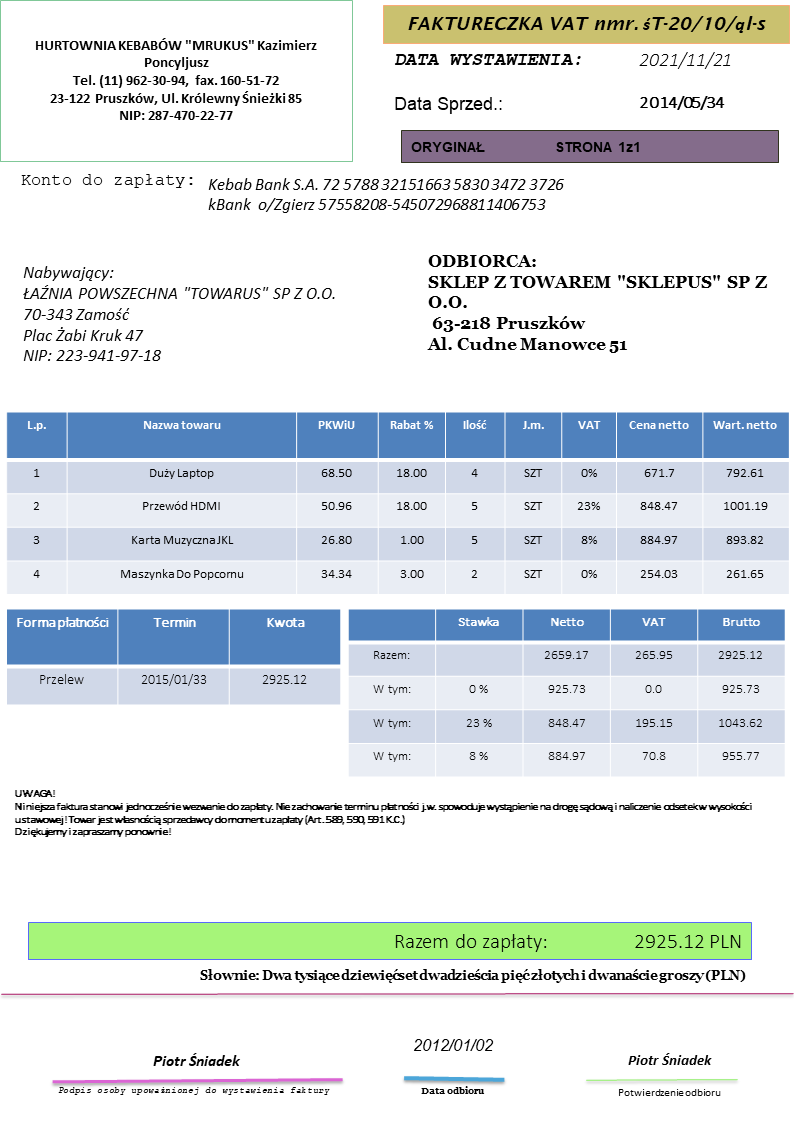Table: (5, 411, 788, 594), (346, 606, 786, 780), (6, 609, 340, 705)
TextBox: (12, 785, 756, 840), (426, 250, 772, 356), (19, 261, 338, 365), (30, 33, 321, 125), (206, 174, 565, 214), (197, 962, 748, 988), (404, 11, 768, 37), (390, 929, 745, 954), (407, 135, 645, 157), (54, 1083, 330, 1100), (392, 49, 582, 71), (17, 170, 200, 190), (391, 92, 505, 115), (635, 49, 732, 71), (411, 1034, 496, 1057), (149, 1050, 241, 1071), (634, 93, 726, 113), (614, 1085, 722, 1101), (625, 1051, 712, 1070), (418, 1084, 485, 1099)
